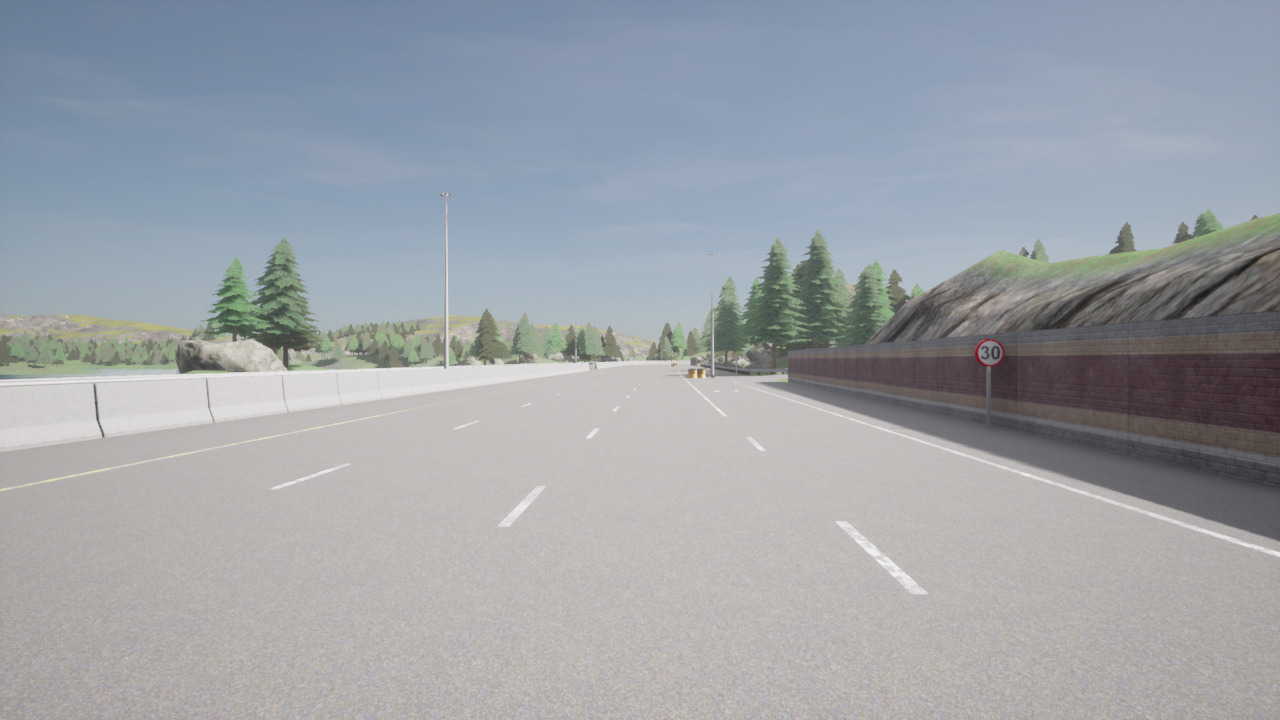sl30: (974, 338, 1006, 368)
